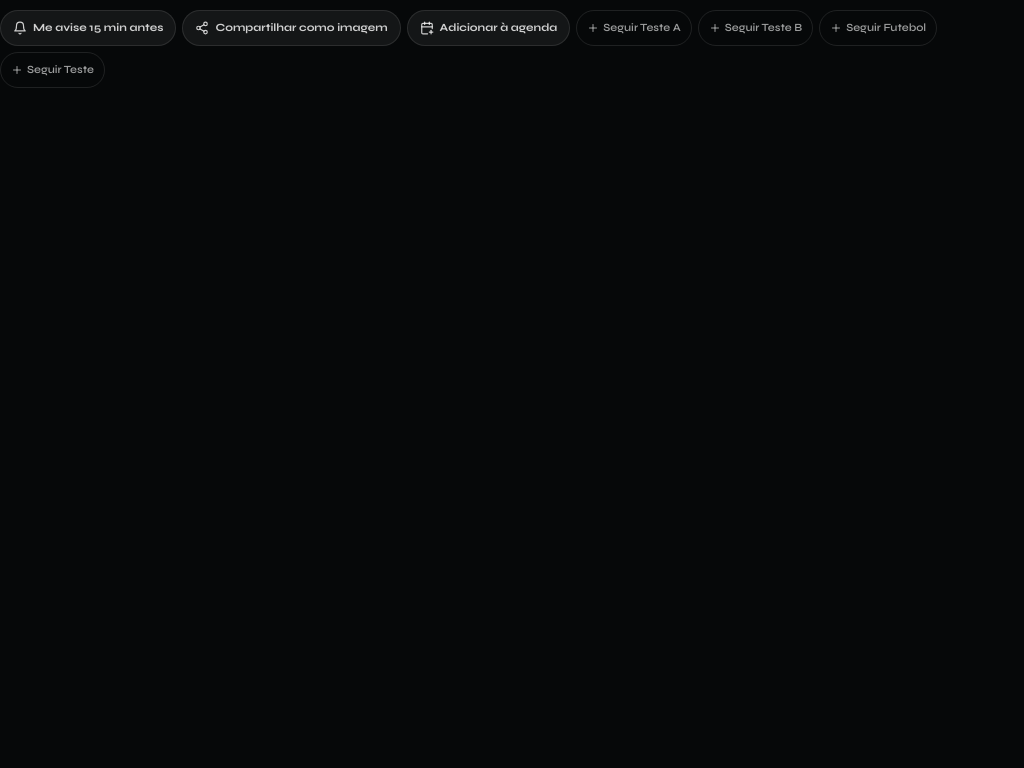
GameActions — ajuda de permissão do sino › permissão default: mostra o aviso antes do pedido e não chama o lembrete ainda
Click the button with aria-label "Me avise 15 min antes de Teste A".
click(88, 28)  # box x1=0 y1=10 x2=176 y2=46
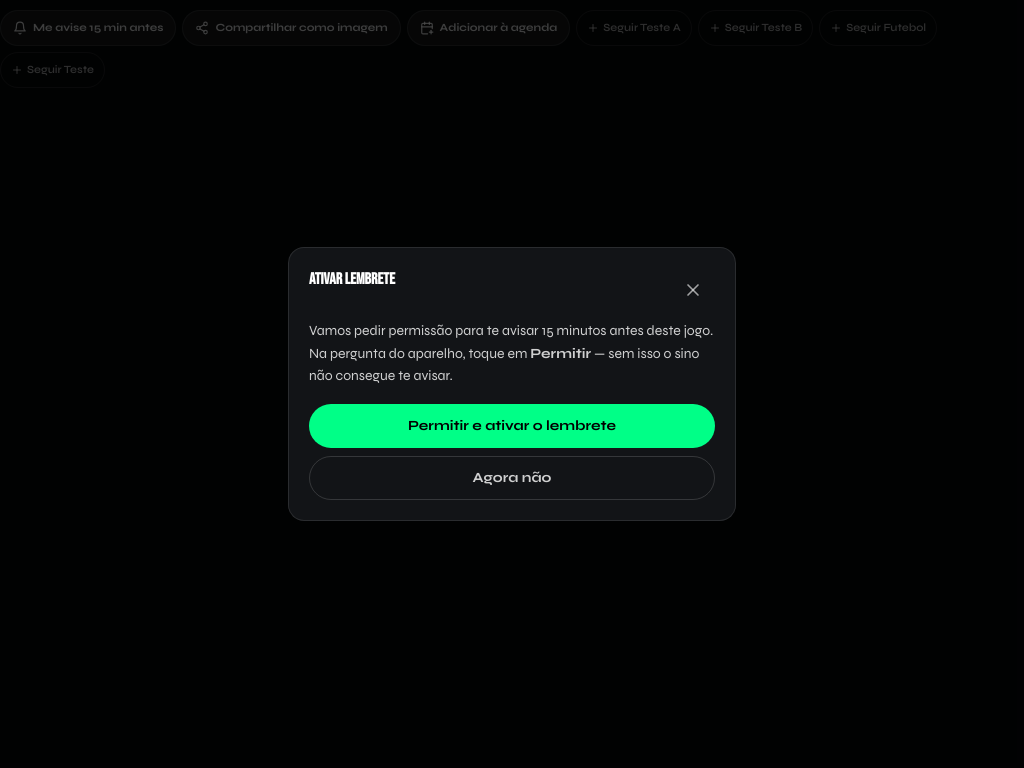
expect the dialog "Ativar lembrete" is shown: met
